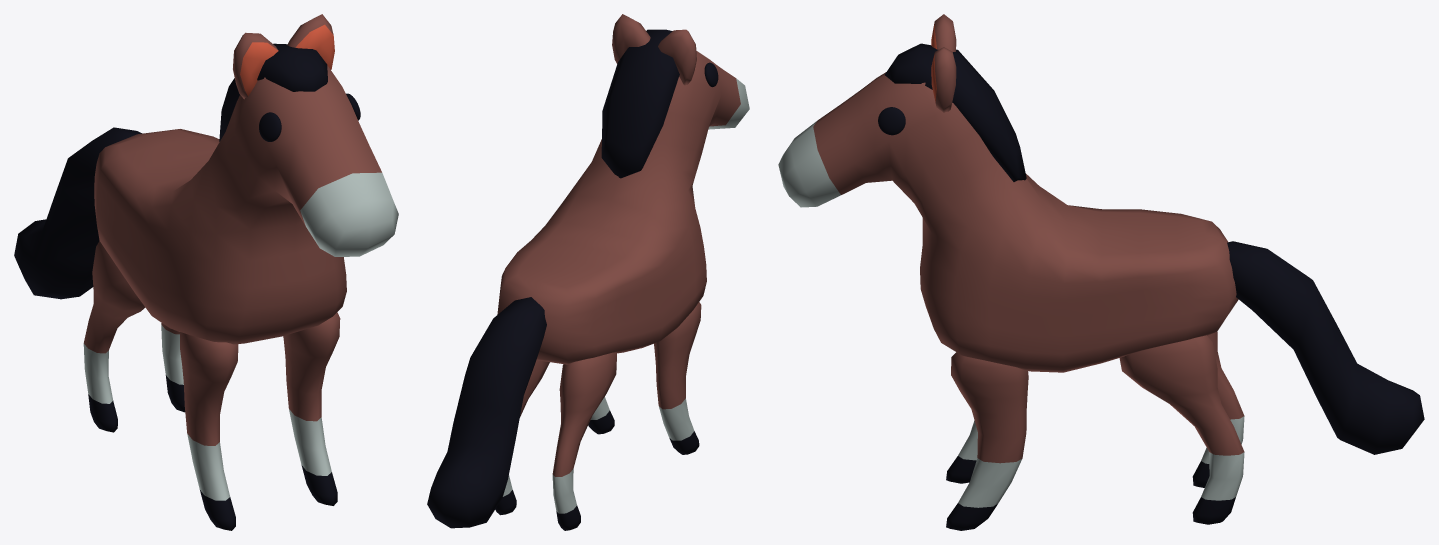
The model's file is Horse.fbx.
3 views of the same model, side by side, from view 1: azimuth 30°, elevation 25°; view 2: azimuth 150°, elevation 25°; view 3: azimuth 270°, elevation 25° (orthographic). The views are drawn at different scales.
Parts seen in each view (by area): view 1: Cube.002; view 2: Cube.002; view 3: Cube.002.
Boxes of the visible parts, x1,y1,x2,y2 form: Cube.002: (14, 14, 398, 530); Cube.002: (427, 14, 749, 530); Cube.002: (778, 14, 1424, 530).
Size of the model in its own units: 68.71 by 222 by 273.
